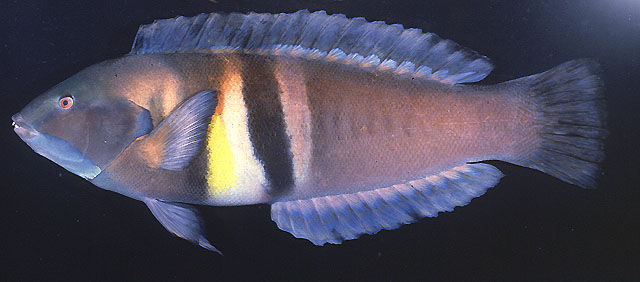fish: (12, 9, 609, 255)
